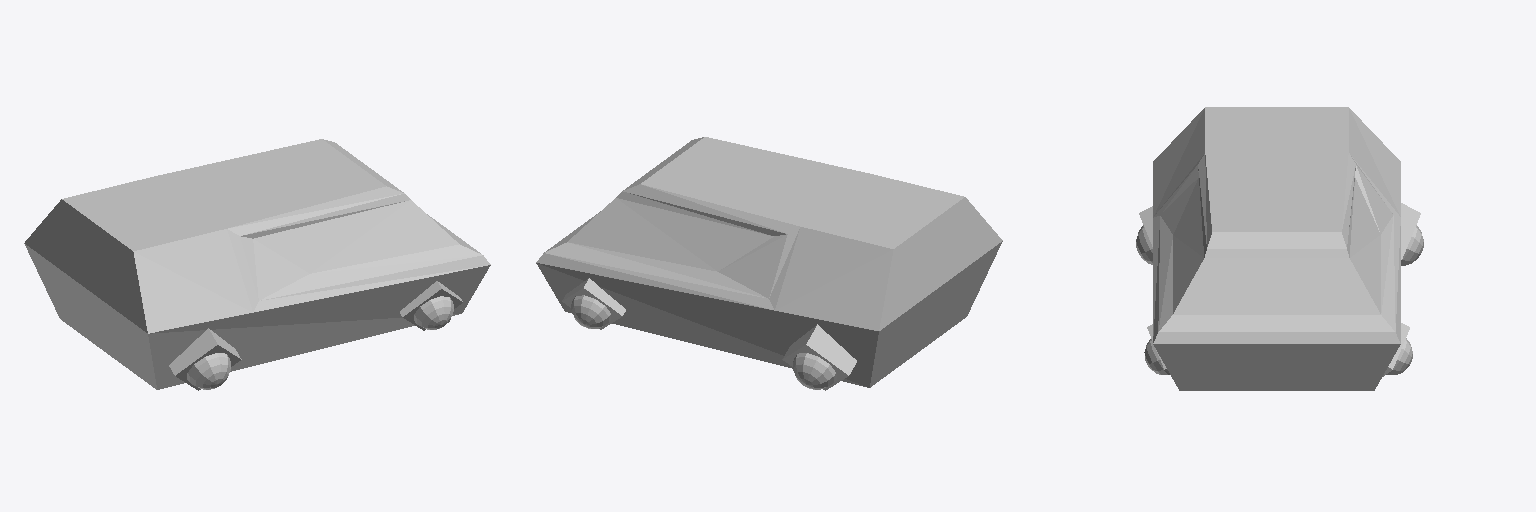
File: aircar_car.obj
The picture shows the model from 3 angles: view 1: azimuth 30°, elevation 25°; view 2: azimuth 150°, elevation 25°; view 3: azimuth 270°, elevation 25°; orthographic projection.
Visible parts, largest first — view 1: darkgrey, windowlight, lightgrey, whitelight; view 2: darkgrey, windowlight, lightgrey, whitelight; view 3: darkgrey, windowlight, whitelight, lightgrey.
Part boxes in pixels (left/top/right/bottom): darkgrey: left=24, top=139, right=490, bottom=389; windowlight: left=254, top=200, right=458, bottom=273; lightgrey: left=169, top=281, right=462, bottom=390; whitelight: left=187, top=296, right=453, bottom=389; darkgrey: left=536, top=137, right=1002, bottom=387; windowlight: left=568, top=198, right=773, bottom=271; lightgrey: left=562, top=278, right=856, bottom=390; whitelight: left=571, top=295, right=836, bottom=389; darkgrey: left=1153, top=107, right=1400, bottom=390; windowlight: left=1173, top=178, right=1380, bottom=314; whitelight: left=1136, top=225, right=1423, bottom=374; lightgrey: left=1139, top=203, right=1420, bottom=376.
Size of the model in its own units: 325 by 128 by 236.